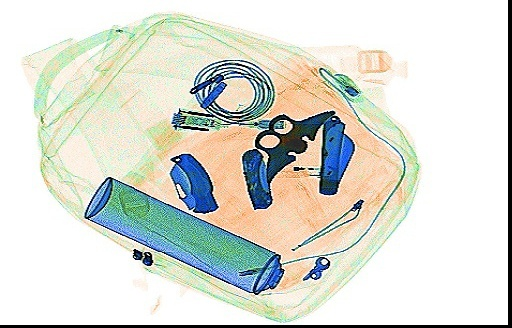knife: (315, 113, 356, 196), (166, 150, 220, 213), (239, 145, 271, 211)
lighter: (271, 162, 332, 178)
pressure: (82, 173, 289, 296)
